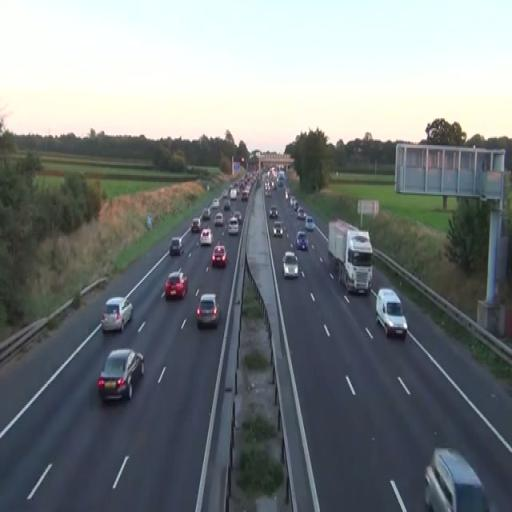Car: (97, 348, 145, 402), (375, 288, 407, 339), (100, 296, 134, 333), (196, 294, 220, 329), (166, 269, 188, 300), (282, 251, 299, 279), (212, 244, 228, 268), (199, 228, 213, 247), (296, 231, 308, 251), (273, 221, 283, 238)
Truck: (328, 218, 373, 296)
